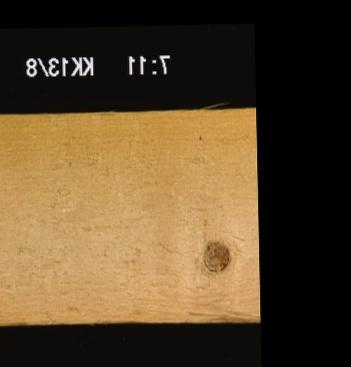dry_knot: (200, 237, 231, 272)
